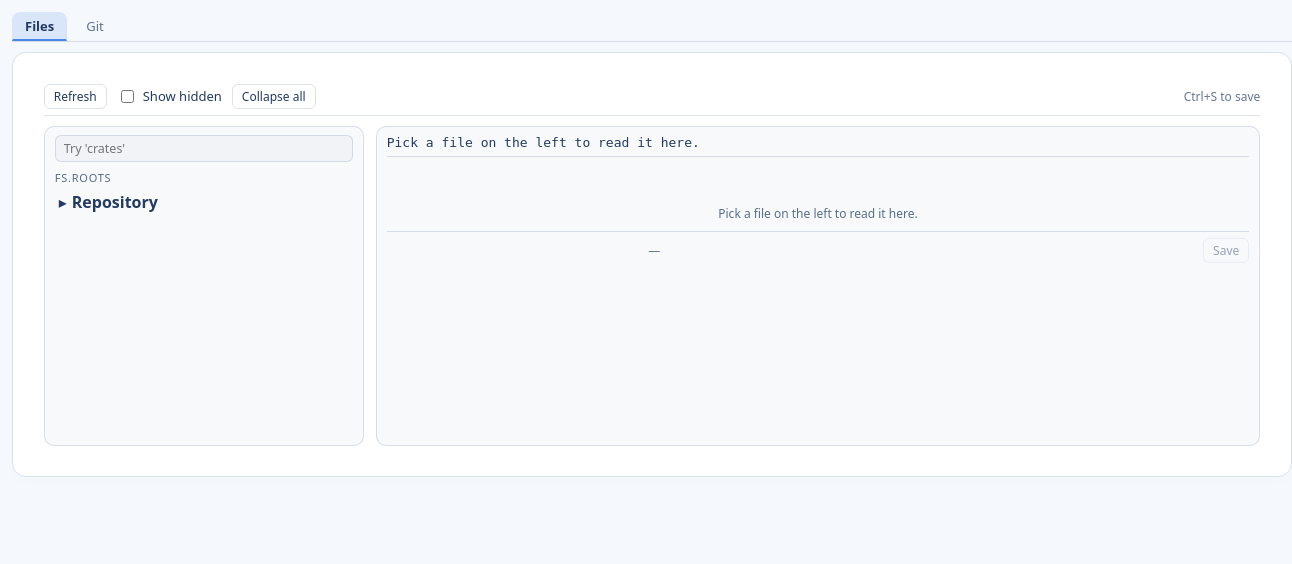
Test: WorkbenchPanel tabs (GIT-M1) › starts on Files and swaps the body when Git is selected
Expected: the element with test id "fm-toolbar" is shown, x1=44 y1=84 x2=1260 y2=116
Click the tab with test id "wb-tab-git".
click(95, 26)  # box x1=73 y1=12 x2=117 y2=41
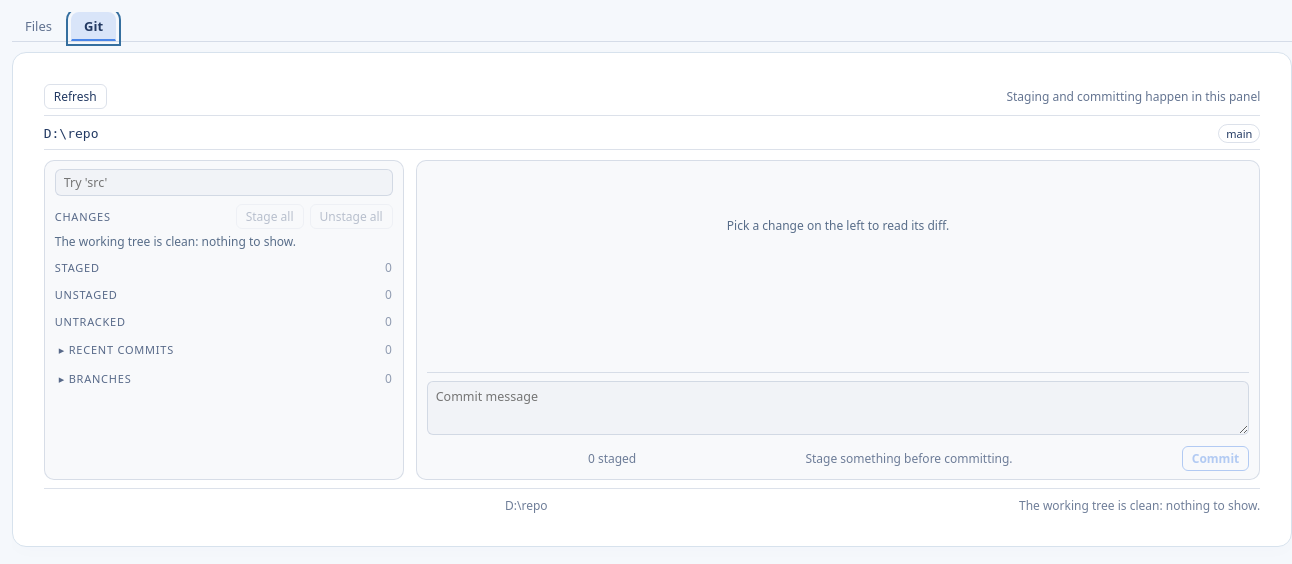
Expected: the element with test id "git-toolbar" is shown, x1=44 y1=84 x2=1260 y2=116
Expected: the element with test id "fm-toolbar" is gone
